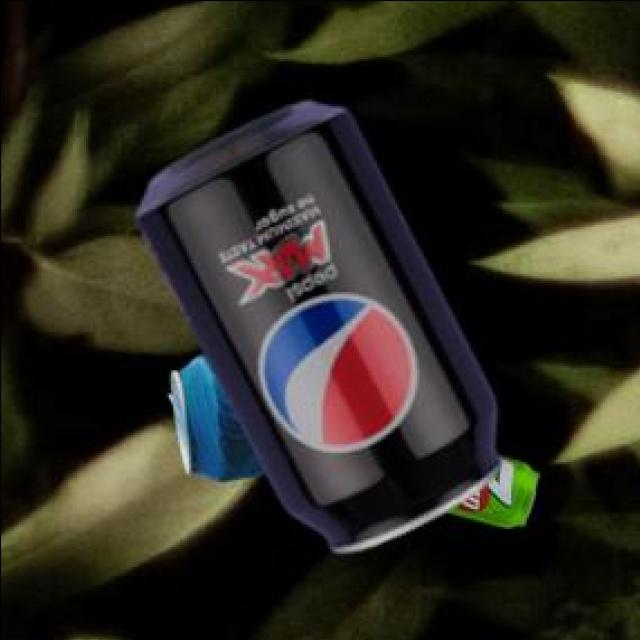logam: (138, 104, 502, 554), (171, 357, 267, 484), (451, 460, 540, 529)
